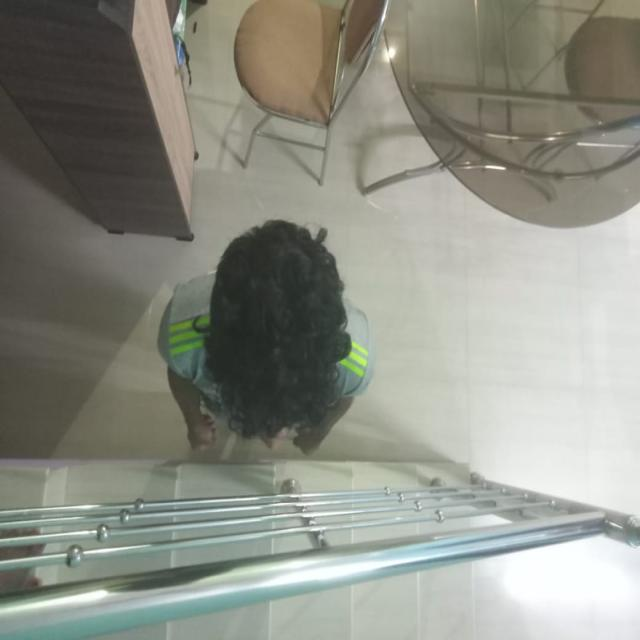humans: (151, 210, 384, 471)
